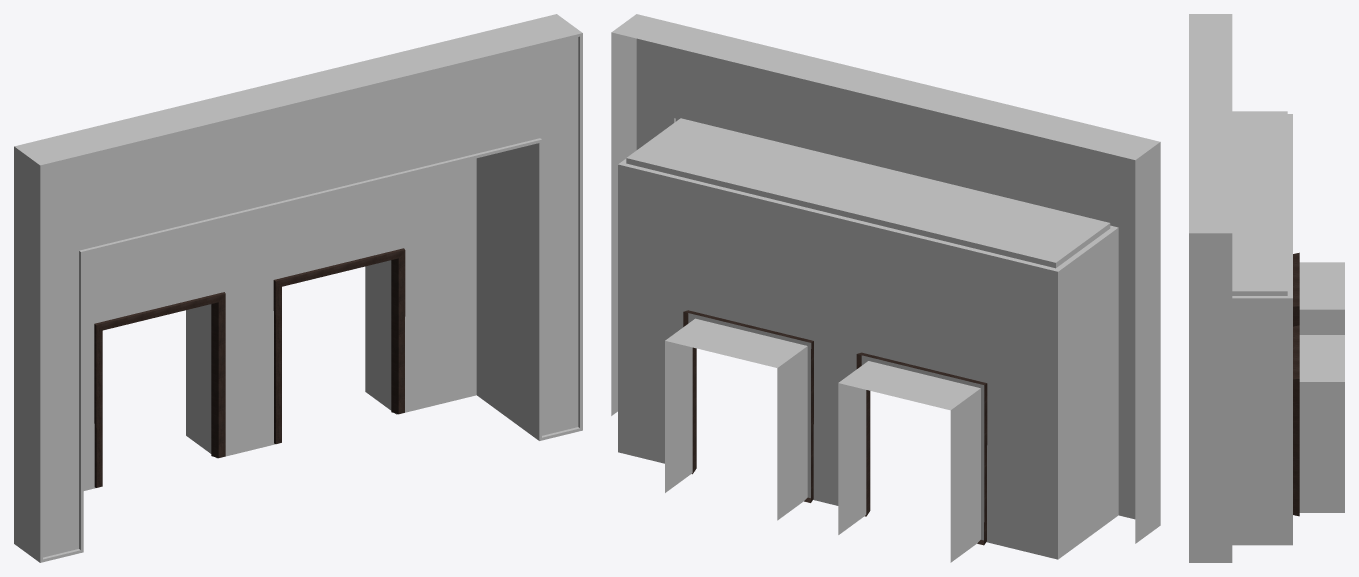
The model's file is SM_LobbyandHotel_Wall_2a.FBX.
3 views of the same model, side by side, from view 1: azimuth 30°, elevation 25°; view 2: azimuth 150°, elevation 25°; view 3: azimuth 270°, elevation 25° (orthographic). The views are drawn at different scales.
Visible parts, largest first — view 1: SM_LobbyandHotel_Wall_2a; view 2: SM_LobbyandHotel_Wall_2a; view 3: SM_LobbyandHotel_Wall_2a.
Part boxes in pixels (<box>): SM_LobbyandHotel_Wall_2a: <box>14,14,582,562</box>; SM_LobbyandHotel_Wall_2a: <box>611,14,1160,562</box>; SM_LobbyandHotel_Wall_2a: <box>1189,14,1344,562</box>.
Bounding box in the file's own units: 10 × 7 × 3.
